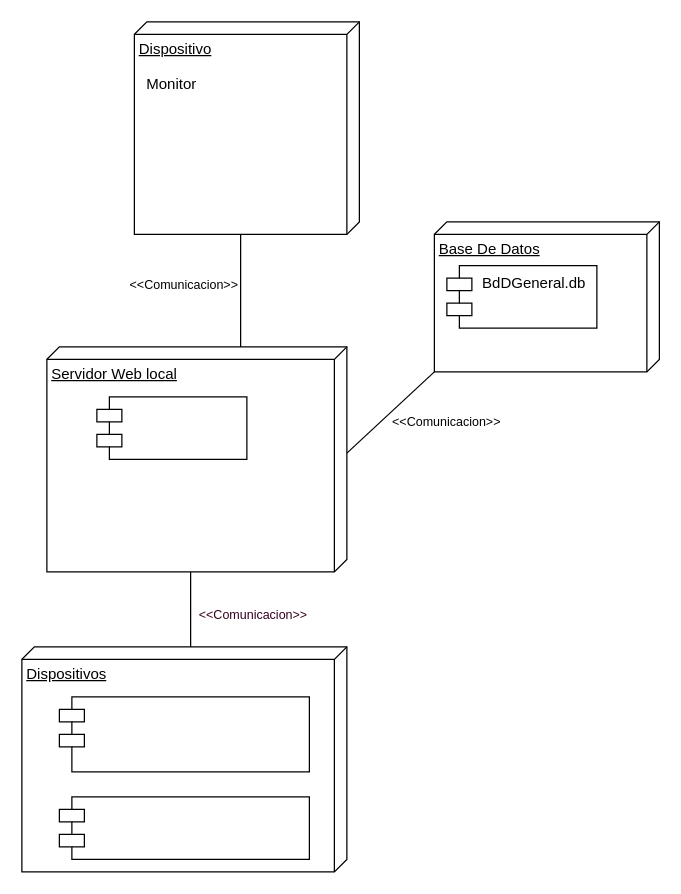
Image size: 681x894. Some labels were removed from this diagram. The shapes that lost their labels are listed below. From the top down, each one's centre as x and y in pixels, then its label:
At [171,427]: "Aplicacion Web".
At [183,734]: "Sensor Temperatura y humedad".
At [183,827]: "Sensor iluminacion".
